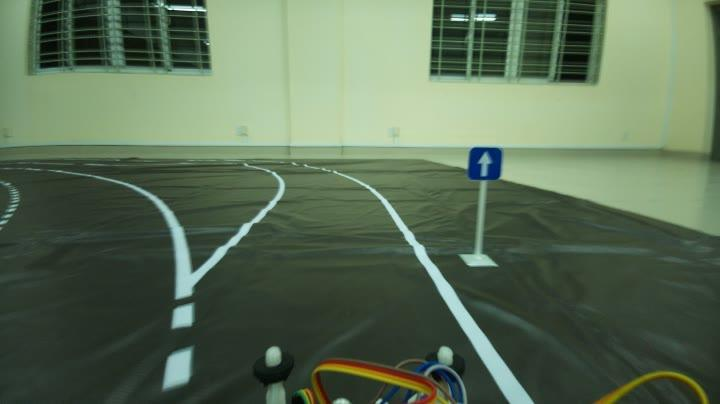onewayroad: (463, 142, 508, 190)
